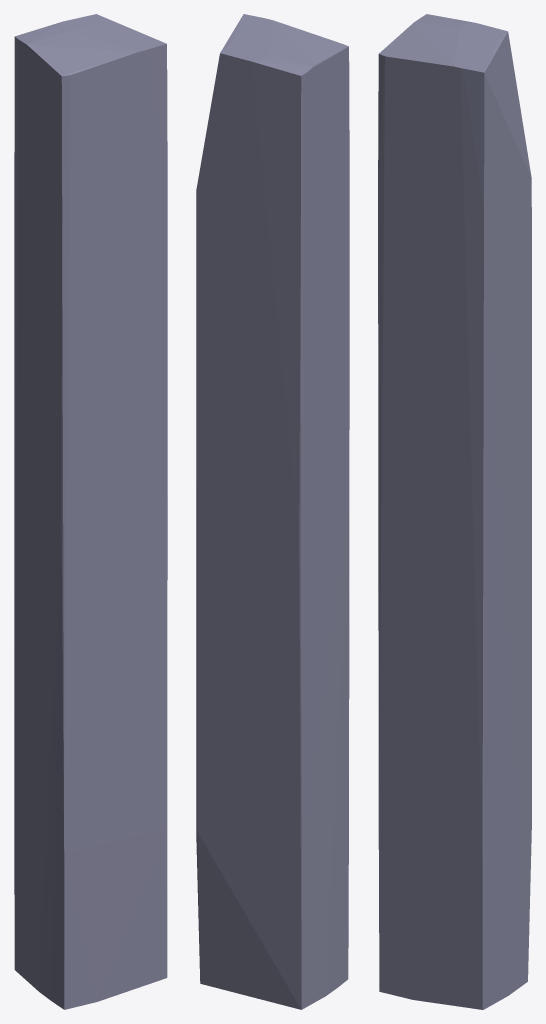
The model's file is extrusion_tSlot_aluminum_b09.glb.
3 renders of one model, left to right at view 1: azimuth 30°, elevation 25°; view 2: azimuth 150°, elevation 25°; view 3: azimuth 330°, elevation 25°, orthographic.
Visible parts, largest first — view 1: geometry_0; view 2: geometry_0; view 3: geometry_0.
Boxes of the visible parts, x1,y1,x2,y2 form: geometry_0: (14,14,167,1009); geometry_0: (196,14,349,1009); geometry_0: (378,14,531,1009).
Bounding box in the file's own units: 0.0564 × 0.48 × 0.0455.
